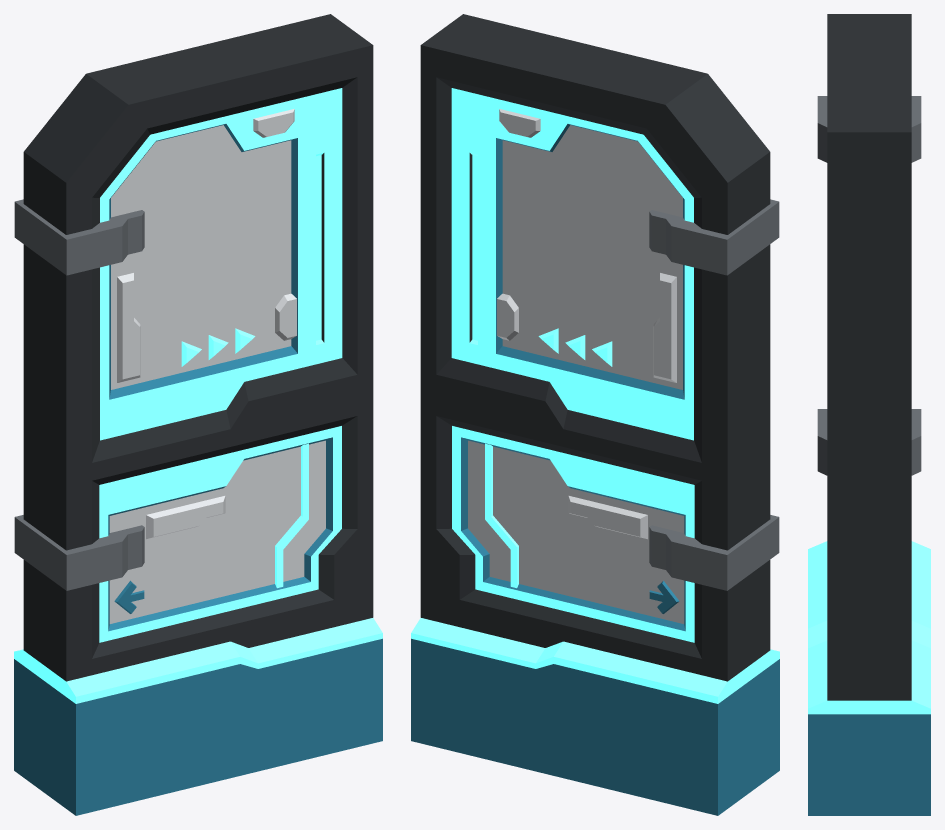
File: door_double_l-C_36cfhC.glb
3 renders of one model, left to right at view 1: azimuth 30°, elevation 25°; view 2: azimuth 150°, elevation 25°; view 3: azimuth 270°, elevation 25°, orthographic.
Parts seen in each view (by area): view 1: Door_Double.L; view 2: Door_Double.L; view 3: Door_Double.L.
Part boxes in pixels (x1=…): Door_Double.L: x1=14, y1=14, x2=382, y2=815; Door_Double.L: x1=411, y1=14, x2=779, y2=815; Door_Double.L: x1=808, y1=14, x2=930, y2=815.
Size of the model in its own units: 1.32 by 2.79 by 0.4542.
